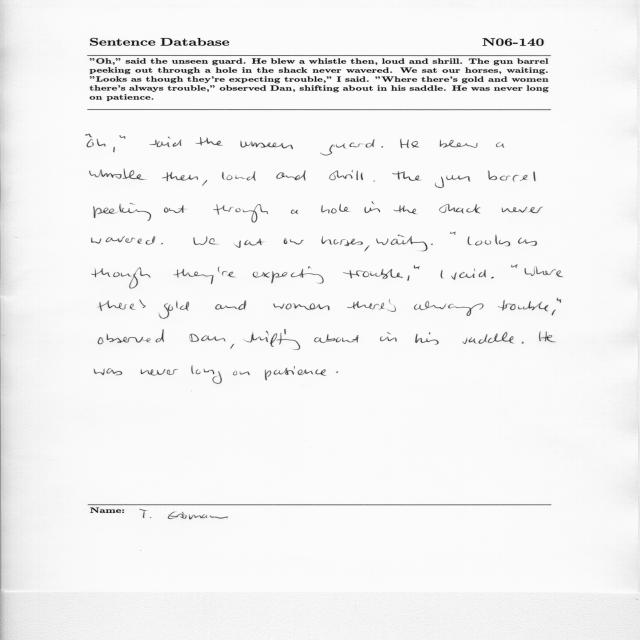word: (92, 267, 150, 289), (253, 267, 324, 284), (244, 329, 301, 350), (213, 204, 268, 223), (414, 301, 483, 316), (94, 203, 151, 221), (98, 330, 164, 345), (321, 139, 375, 156), (265, 366, 326, 380), (377, 235, 428, 251), (89, 169, 146, 180), (463, 332, 515, 344), (173, 269, 214, 284), (343, 269, 403, 279), (191, 365, 222, 384), (92, 236, 155, 245), (498, 300, 548, 311), (159, 301, 189, 319), (488, 171, 536, 182), (468, 235, 511, 246), (435, 175, 470, 188), (240, 141, 293, 149), (321, 236, 363, 246), (525, 267, 563, 278), (439, 204, 480, 214), (273, 303, 330, 310), (315, 334, 359, 343), (451, 269, 486, 280), (440, 139, 478, 148), (222, 171, 256, 181), (329, 170, 363, 180), (276, 170, 306, 181), (162, 172, 198, 181), (150, 137, 182, 147), (98, 300, 127, 311), (215, 300, 246, 310), (392, 171, 421, 181), (234, 238, 263, 248), (190, 334, 226, 342), (415, 333, 439, 345), (321, 204, 349, 214), (347, 301, 379, 309), (502, 207, 543, 213), (196, 137, 223, 146), (193, 236, 218, 245), (141, 369, 178, 375), (379, 299, 396, 312), (394, 206, 418, 215), (94, 369, 122, 376), (218, 267, 235, 278), (539, 331, 556, 342), (164, 205, 186, 213), (364, 202, 380, 213), (130, 299, 146, 310), (400, 139, 419, 148), (380, 332, 397, 342), (518, 238, 537, 246), (283, 239, 304, 245), (86, 134, 94, 147), (233, 371, 250, 376), (97, 139, 106, 147), (496, 142, 504, 148), (364, 245, 370, 251), (203, 180, 208, 186), (551, 310, 556, 316), (119, 135, 126, 139), (291, 210, 298, 214), (441, 270, 444, 279), (414, 265, 420, 269), (511, 265, 518, 268), (557, 298, 561, 303), (230, 344, 234, 349), (450, 232, 456, 235), (407, 275, 410, 281), (113, 147, 115, 153), (491, 277, 494, 279), (382, 146, 384, 148), (373, 180, 375, 182), (431, 243, 433, 245), (522, 342, 524, 344), (336, 371, 338, 373), (161, 243, 163, 244)
